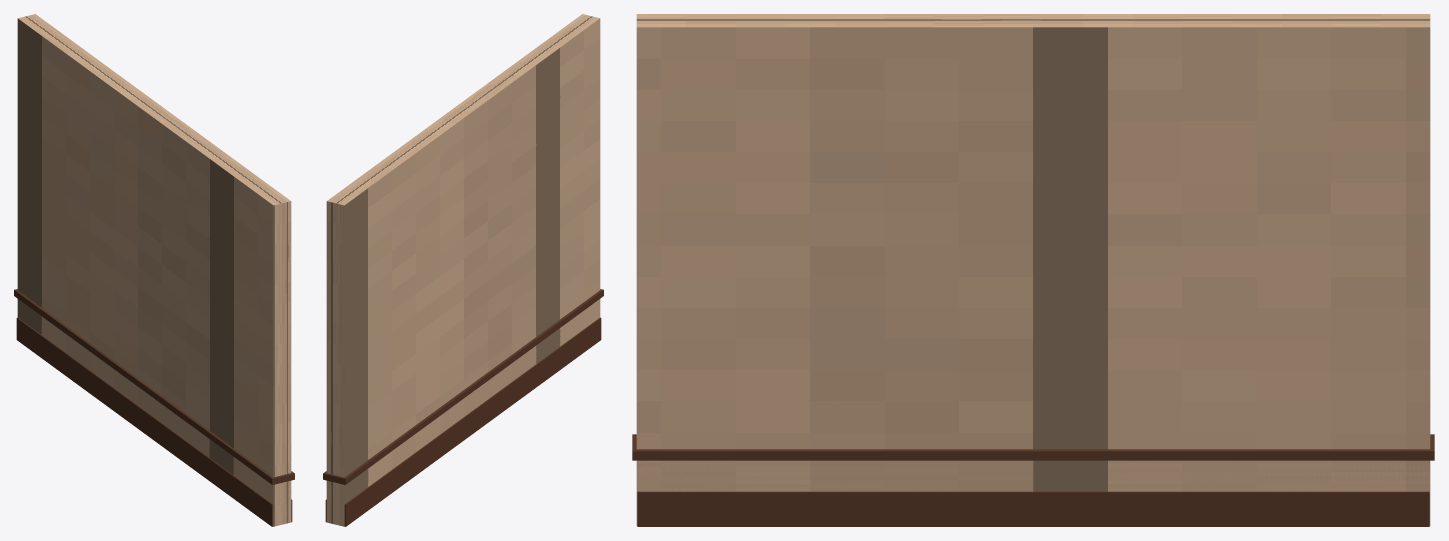
The model's file is back1.glb.
The picture shows the model from 3 angles, left to right: view 1: azimuth 30°, elevation 25°; view 2: azimuth 150°, elevation 25°; view 3: azimuth 270°, elevation 25°; orthographic projection. The views are drawn at different scales.
Parts seen in each view (by area): view 1: Box1, Box2, Box3, Box4; view 2: Box1, Box2, Box4, Box3; view 3: Box1, Box2, Box3, Box4.
Boxes of the visible parts, bbox=[...] form: Box1: bbox=[17, 14, 291, 526]; Box2: bbox=[16, 317, 292, 526]; Box3: bbox=[19, 302, 291, 526]; Box4: bbox=[14, 289, 294, 484]; Box1: bbox=[326, 14, 600, 526]; Box2: bbox=[325, 317, 601, 526]; Box4: bbox=[323, 289, 603, 484]; Box3: bbox=[326, 304, 598, 526]; Box1: bbox=[636, 14, 1430, 525]; Box2: bbox=[637, 491, 1429, 526]; Box3: bbox=[636, 460, 1430, 524]; Box4: bbox=[632, 434, 1434, 460].
Bounding box in the file's own units: 0.19 × 2.6 × 3.79.
Materials: 2 (1 with a texture image).
